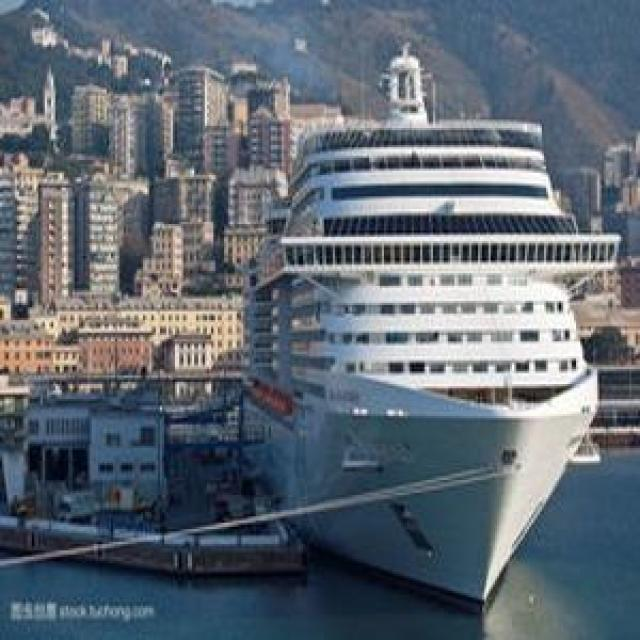passenger ship: (240, 43, 604, 616)
